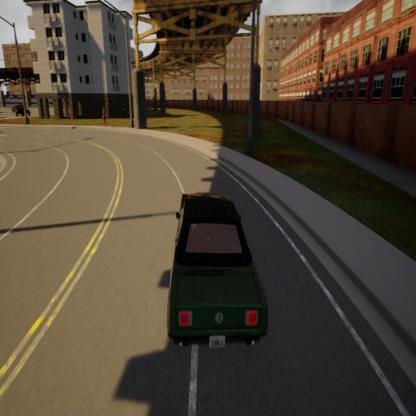Cars: (168, 195, 268, 348), (15, 106, 30, 118)
Pedestrian: (101, 104, 107, 128)
